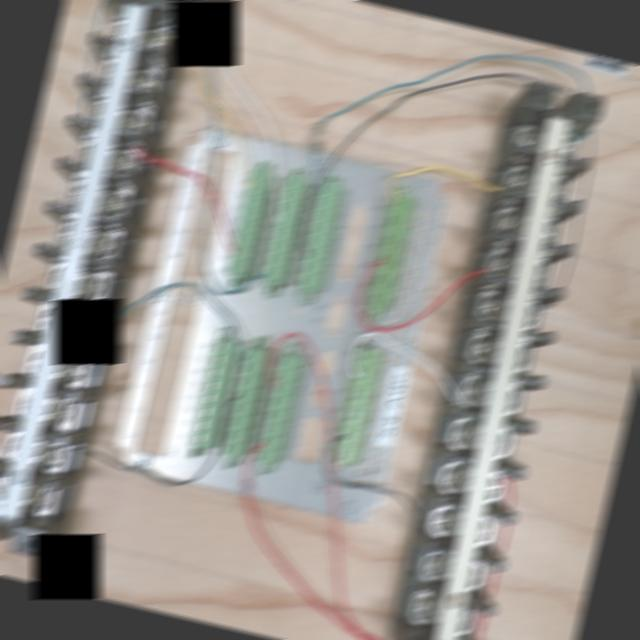Flathead_Block: (406, 81, 606, 640)
Phillips_Block: (0, 0, 180, 555)
Terminal_1: (328, 345, 386, 468), (365, 190, 418, 312)
Terminal_2: (253, 352, 305, 468), (219, 346, 271, 461), (260, 171, 311, 284), (225, 165, 275, 279), (296, 178, 345, 292)
